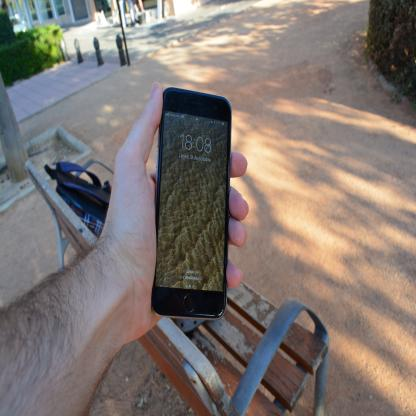smartphone: (150, 86, 233, 320)
